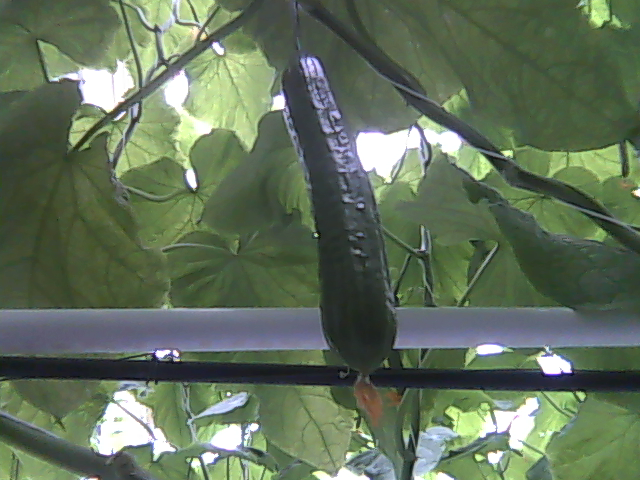concombre: (279, 47, 403, 438)
